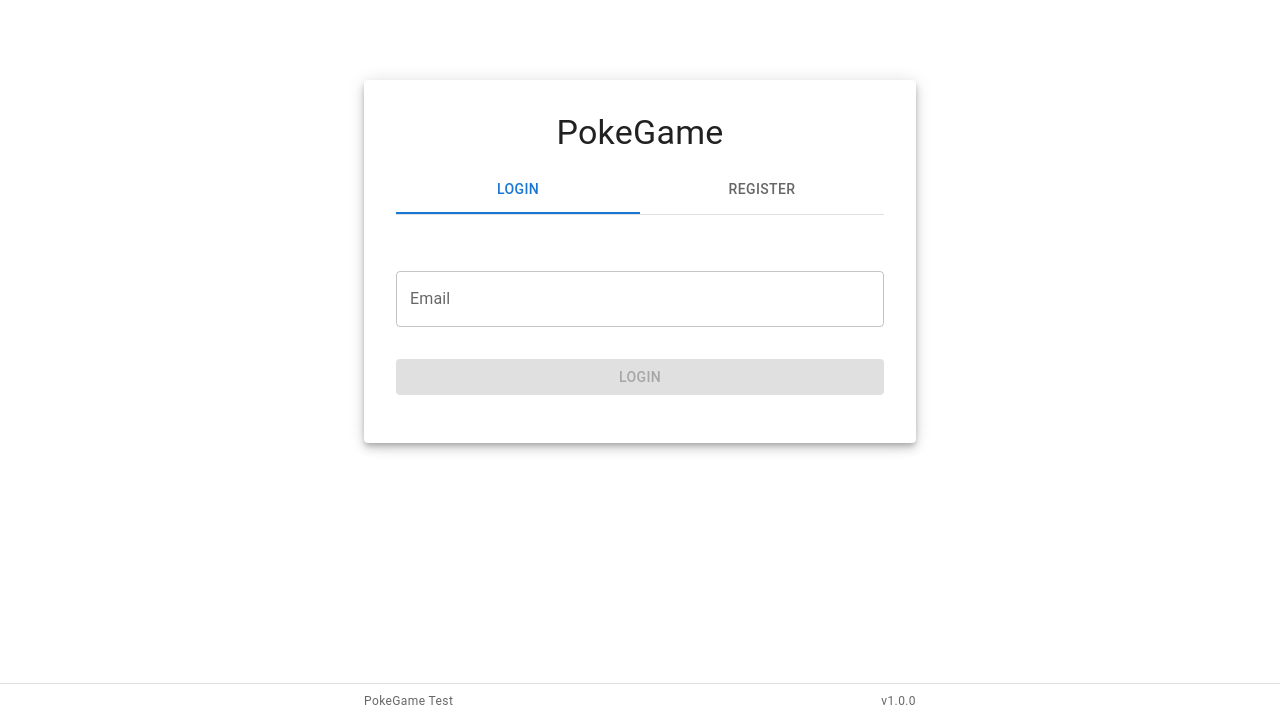
Test: LoginPage › register form › should show loading state while registering
This screenshot has width=1280, height=720.
Click the tab "Register". click: [762, 190]
box: [640,166,884,214]
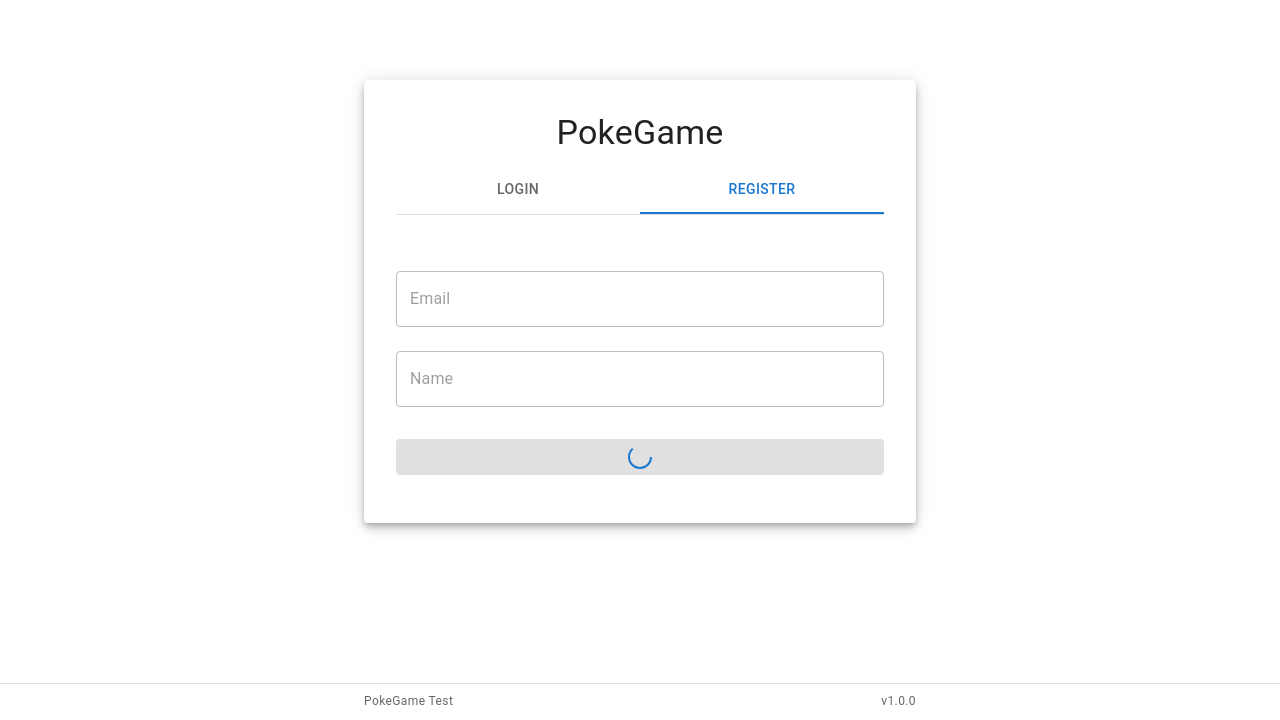
Now the button with test id "register-submit-button" is disabled, box [396,439,884,475]
